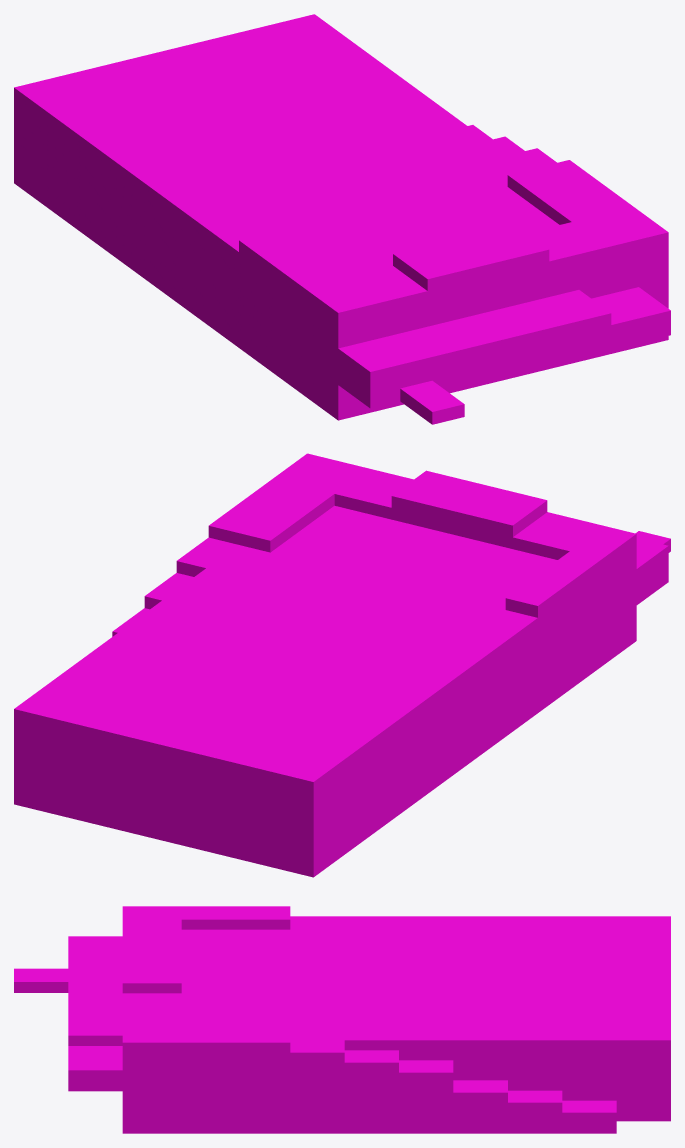
The model's file is car_workshop.glb.
3 views of the same model, one above another, from view 1: azimuth 30°, elevation 25°; view 2: azimuth 150°, elevation 25°; view 3: azimuth 270°, elevation 25° (orthographic). The views are drawn at different scales.
Visible parts, largest first — view 1: col_roof_107, col_roof_122, col_block_121, col_block_238, col_roof_01, col_roof_105, col_roof_123, col_roof_02, col_roof_125, col_roof_106, col_roof_04, col_roof_118 (+103 smaller); view 2: col_roof_01, col_roof_122, col_roof_105, col_roof_116, col_roof_06, col_roof_04, col_roof_02, col_roof_119, col_roof_91, col_roof_125, col_roof_03, col_roof_11 (+100 smaller); view 3: col_roof_105, col_roof_91, col_roof_119, col_roof_125, col_roof_92, col_roof_94, col_block_121, col_roof_101, col_roof_95, col_roof_93, col_block_161, col_block_45 (+174 smaller).
Boxes of the visible parts, x1,y1,x2,y2 form: col_roof_107: [303, 281, 370, 324]; col_roof_122: [393, 246, 459, 290]; col_block_121: [400, 380, 464, 424]; col_block_238: [335, 340, 402, 384]; col_roof_01: [14, 79, 80, 124]; col_roof_105: [239, 232, 305, 277]; col_roof_123: [423, 239, 489, 283]; col_roof_02: [46, 103, 112, 148]; col_roof_125: [483, 224, 549, 268]; col_roof_106: [272, 256, 337, 298]; col_roof_04: [110, 153, 176, 194]; col_roof_118: [572, 215, 638, 259]; col_roof_01: [281, 749, 348, 793]; col_roof_122: [480, 492, 547, 537]; col_roof_105: [505, 574, 571, 618]; col_roof_116: [238, 508, 304, 552]; col_roof_06: [442, 633, 508, 677]; col_roof_04: [378, 678, 444, 721]; col_roof_02: [316, 726, 380, 769]; col_roof_119: [208, 500, 274, 544]; col_roof_91: [14, 683, 79, 728]; col_roof_125: [391, 470, 456, 514]; col_roof_03: [349, 702, 412, 744]; col_roof_11: [251, 742, 316, 786]; col_roof_105: [231, 906, 290, 929]; col_roof_91: [612, 1027, 670, 1051]; col_roof_119: [231, 1029, 290, 1052]; col_roof_125: [122, 971, 181, 993]; col_roof_92: [558, 1027, 616, 1051]; col_roof_94: [449, 1027, 507, 1051]; col_block_121: [14, 968, 68, 992]; col_roof_101: [286, 1039, 344, 1063]; col_roof_95: [394, 1027, 453, 1051]; col_roof_93: [503, 1027, 562, 1051]; col_block_161: [449, 1080, 507, 1103]; col_block_45: [558, 1100, 616, 1123].
Size of the model in its own units: 2327 by 804 by 4738.
